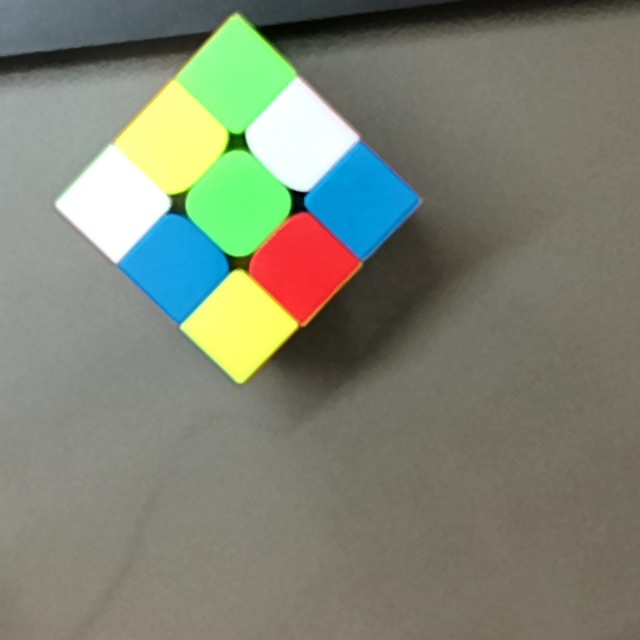tile: (211, 40, 266, 109), (336, 177, 395, 231), (215, 172, 267, 233), (89, 172, 138, 234), (217, 293, 266, 354), (148, 112, 202, 167), (278, 110, 332, 165), (151, 237, 202, 294), (280, 232, 323, 294)
